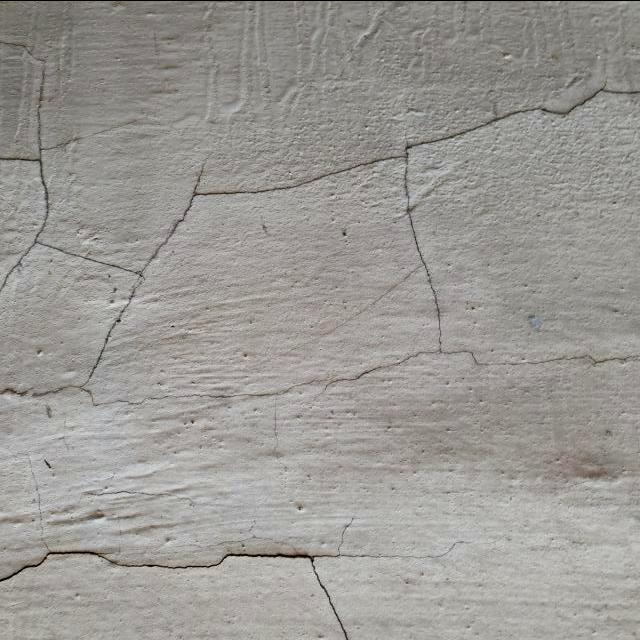SurfaceCrack: (4, 51, 640, 392), (0, 517, 423, 636)
